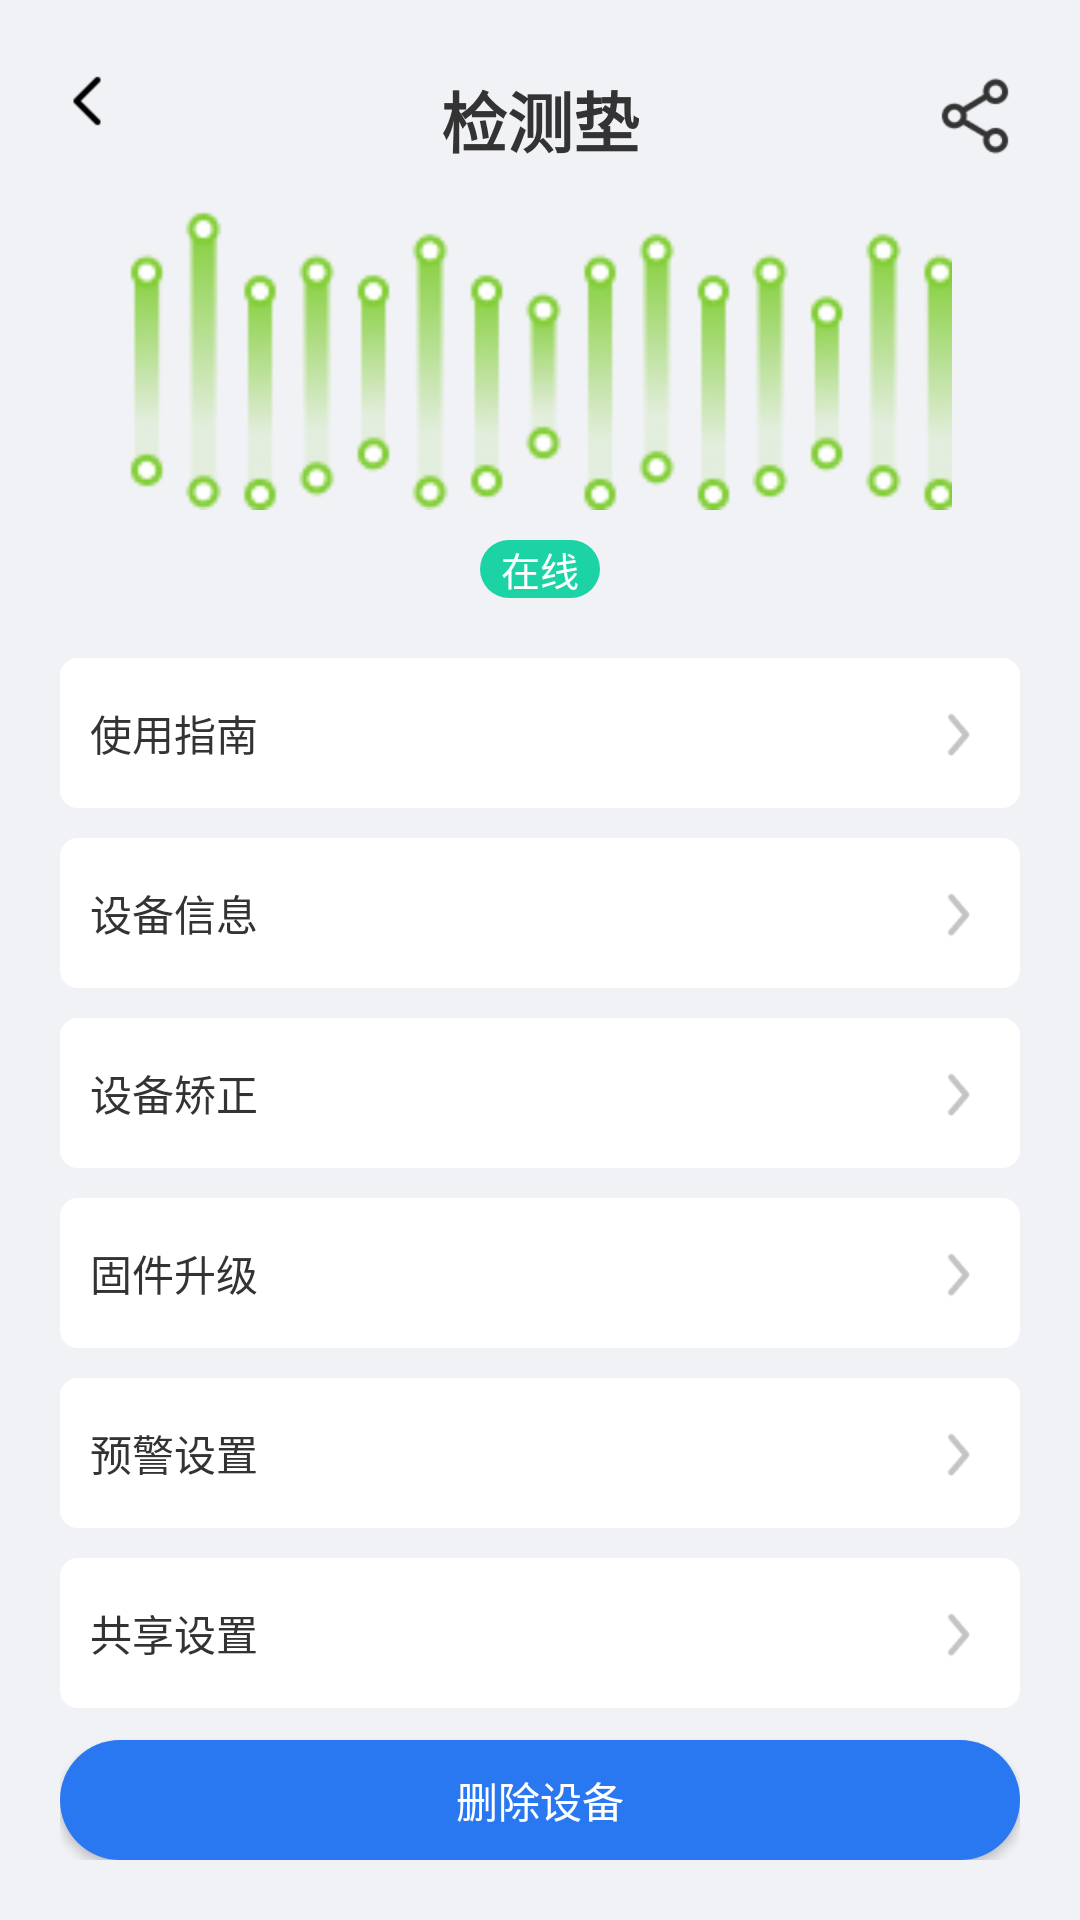

Screen size 1080px×1920px. Icon name, then its box in pixels as detection(x1, y1, x2, y2):
back: detection(73, 76, 101, 126)
next: detection(948, 714, 969, 755), detection(948, 894, 969, 935), detection(948, 1074, 969, 1115), detection(948, 1254, 969, 1295), detection(948, 1434, 969, 1475), detection(948, 1614, 969, 1655)
share: detection(941, 78, 1009, 154)
